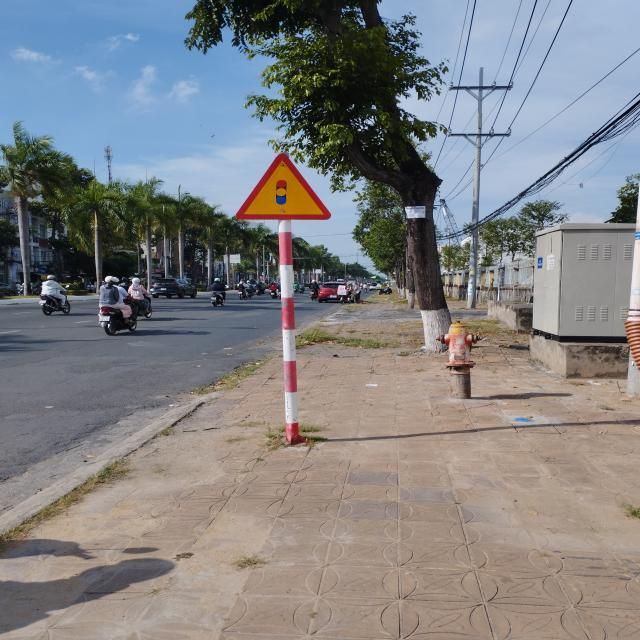Duong_Co_Go_Giam_Toc: (236, 154, 330, 219)
